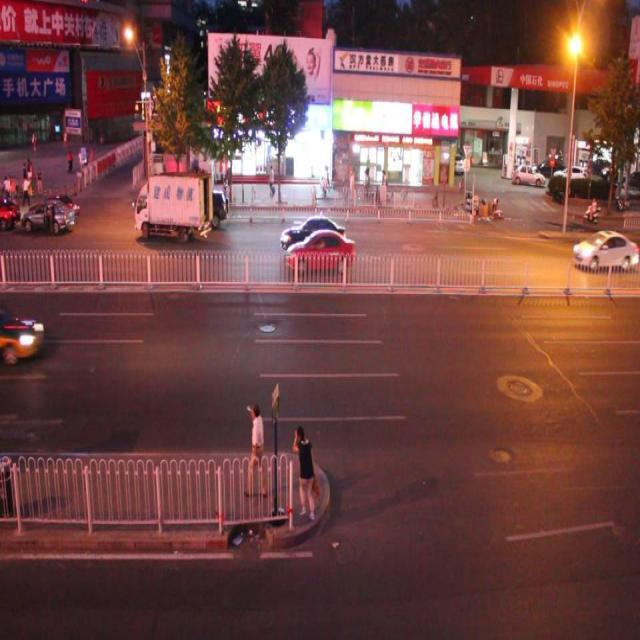bus: (135, 176, 211, 238)
car: (284, 226, 355, 276), (572, 226, 640, 272), (279, 212, 345, 253), (17, 197, 72, 238), (186, 184, 228, 230)
